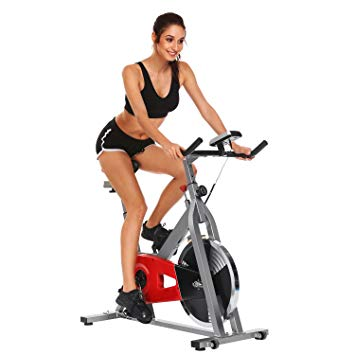gym_bike: (87, 121, 275, 351)
